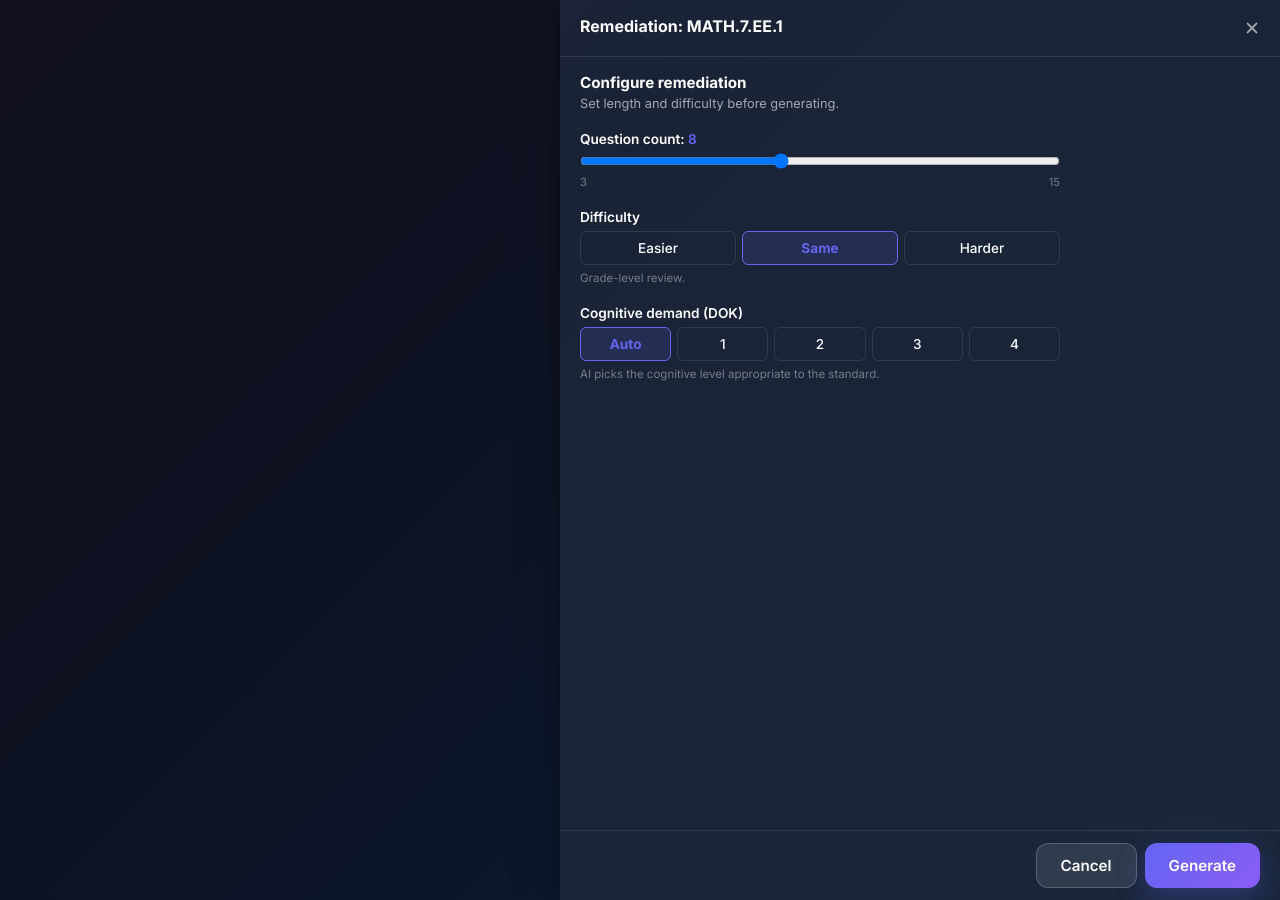
it: RemediationDrawer mounts with content from every extracted section › generation error renders the error state with Retry
This screenshot has width=1280, height=900.
Click the button "Generate": [1202, 866] box top-left (1145, 843), bottom-right (1260, 888)
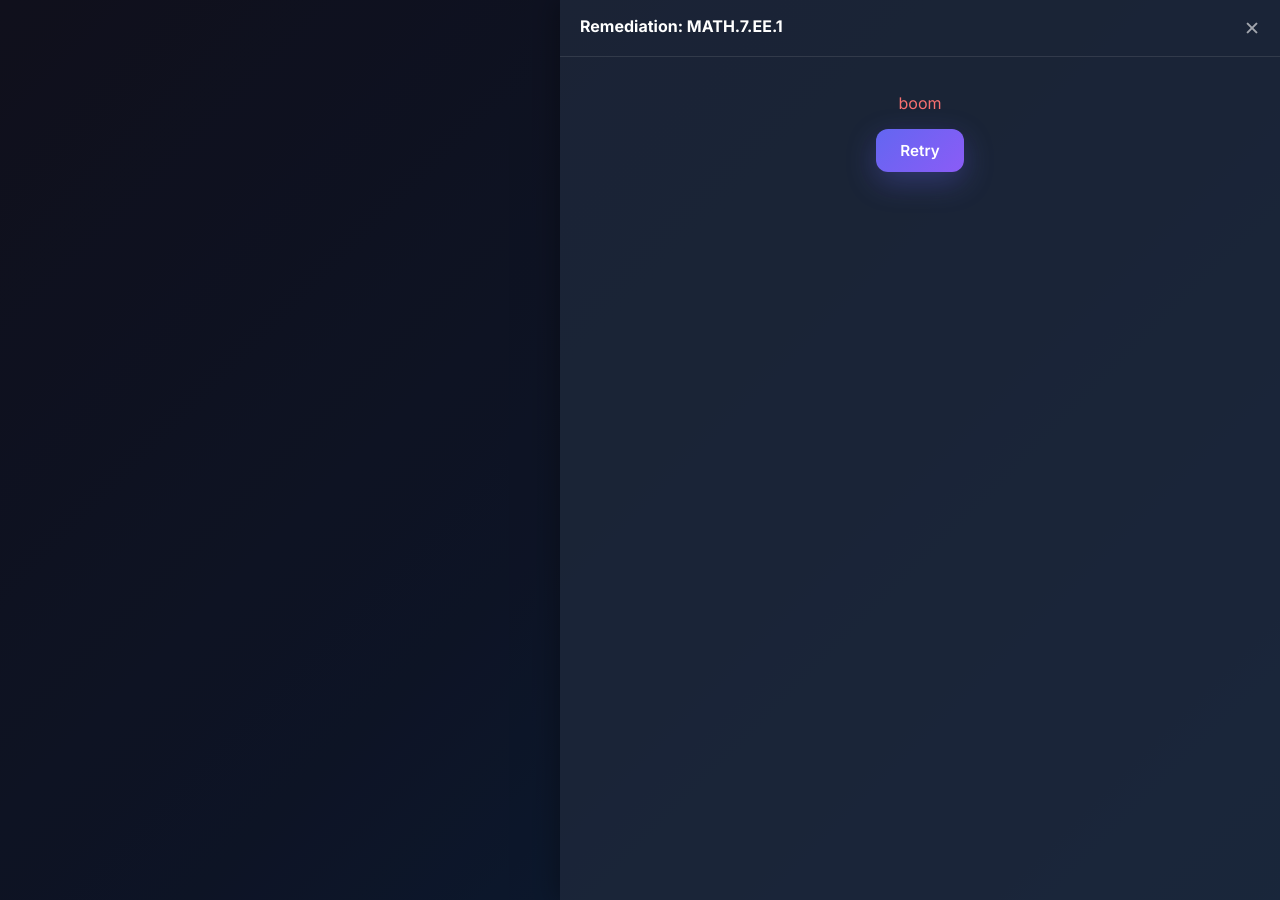
Expected: the text "boom" is shown, top-left (898, 93), bottom-right (942, 113)
Expected: the button "Retry" is shown, top-left (876, 129), bottom-right (964, 172)
